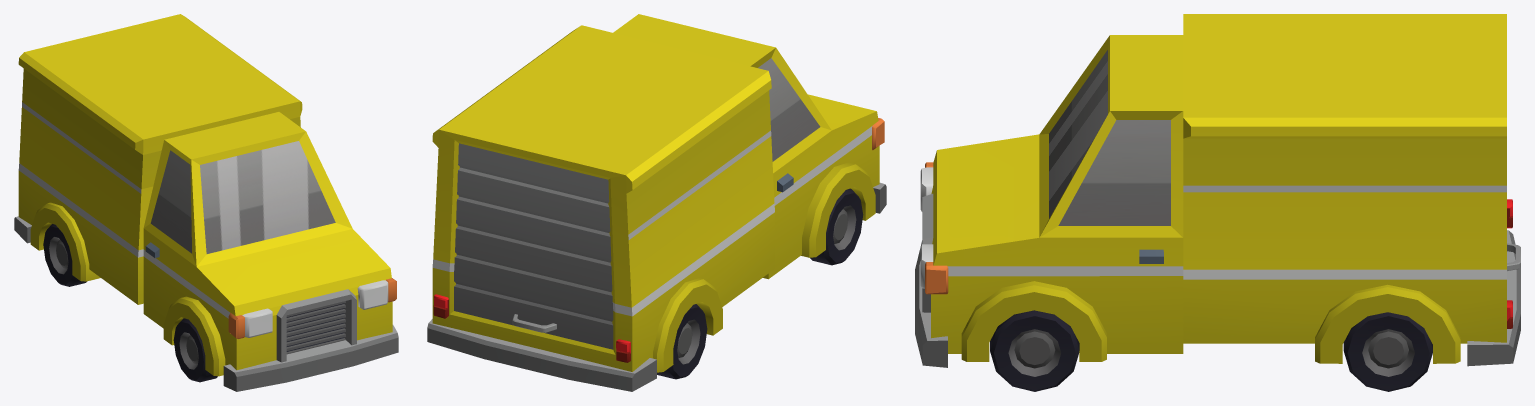
File: PostCar_13.glb
The picture shows the model from 3 angles, left to right: view 1: azimuth 30°, elevation 25°; view 2: azimuth 150°, elevation 25°; view 3: azimuth 270°, elevation 25°; orthographic projection. The views are drawn at different scales.
Visible parts, largest first — view 1: PostCar_13, Wheel_FR, Wheel_BR; view 2: PostCar_13, Wheel_FR, Wheel_BR; view 3: PostCar_13, Wheel_FL, Wheel_BL.
Boxes of the visible parts, left/top/right/bottom form: PostCar_13: left=14, top=14, right=398, bottom=391; Wheel_FR: left=173, top=318, right=217, bottom=382; Wheel_BR: left=43, top=224, right=86, bottom=286; PostCar_13: left=427, top=14, right=886, bottom=391; Wheel_FR: left=810, top=188, right=863, bottom=265; Wheel_BR: left=657, top=304, right=707, bottom=379; PostCar_13: left=915, top=14, right=1520, bottom=367; Wheel_FL: left=990, top=310, right=1079, bottom=391; Wheel_BL: left=1343, top=312, right=1432, bottom=391.
Bounding box in the file's own units: 1.18 × 1.24 × 2.51.
5 materials, 5 textured.
